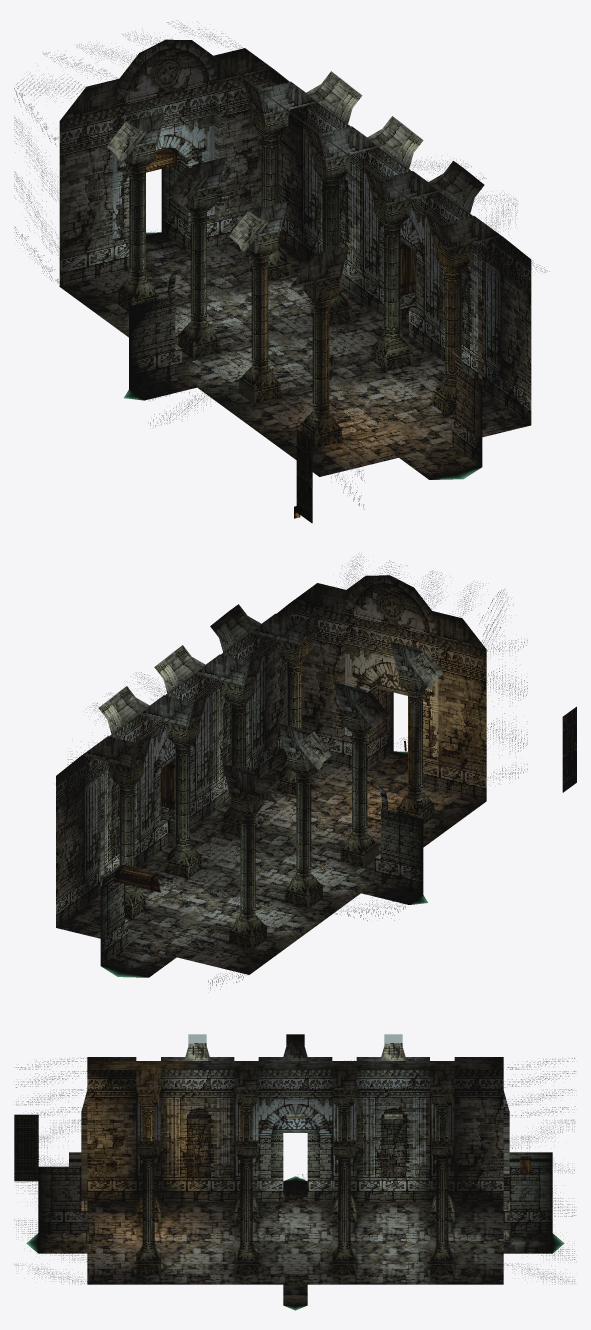
File: MAP059.gltf
3 renders of one model, top to bottom at view 1: azimuth 30°, elevation 25°; view 2: azimuth 150°, elevation 25°; view 3: azimuth 270°, elevation 25°, orthographic. The views are drawn at different scales.
Size of the model in its own units: 179 by 105 by 294.
59 materials, 59 textured.
